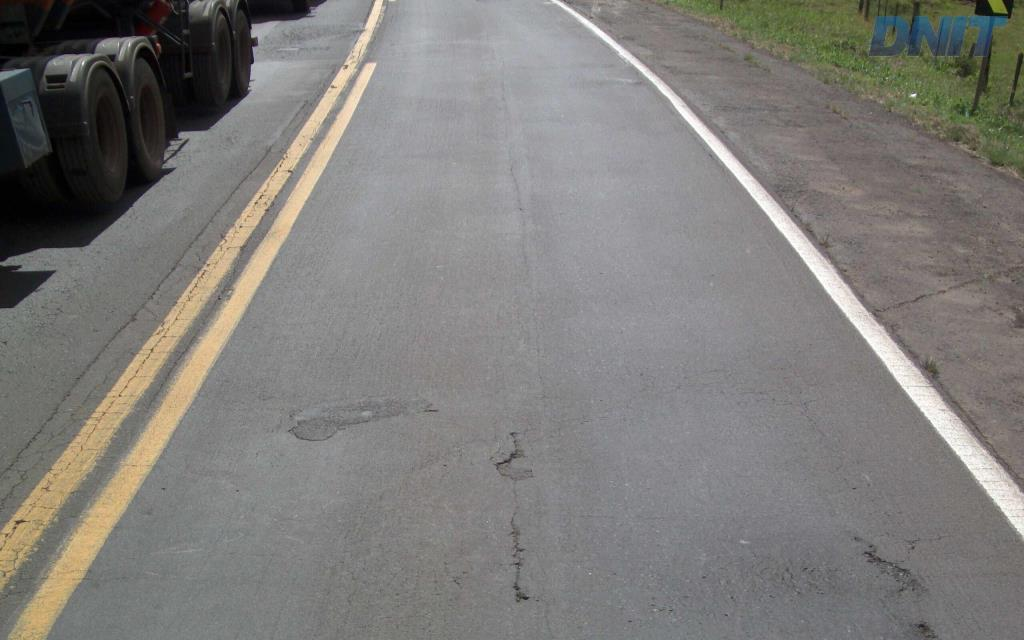crack: (861, 548, 928, 596), (906, 620, 938, 639)
